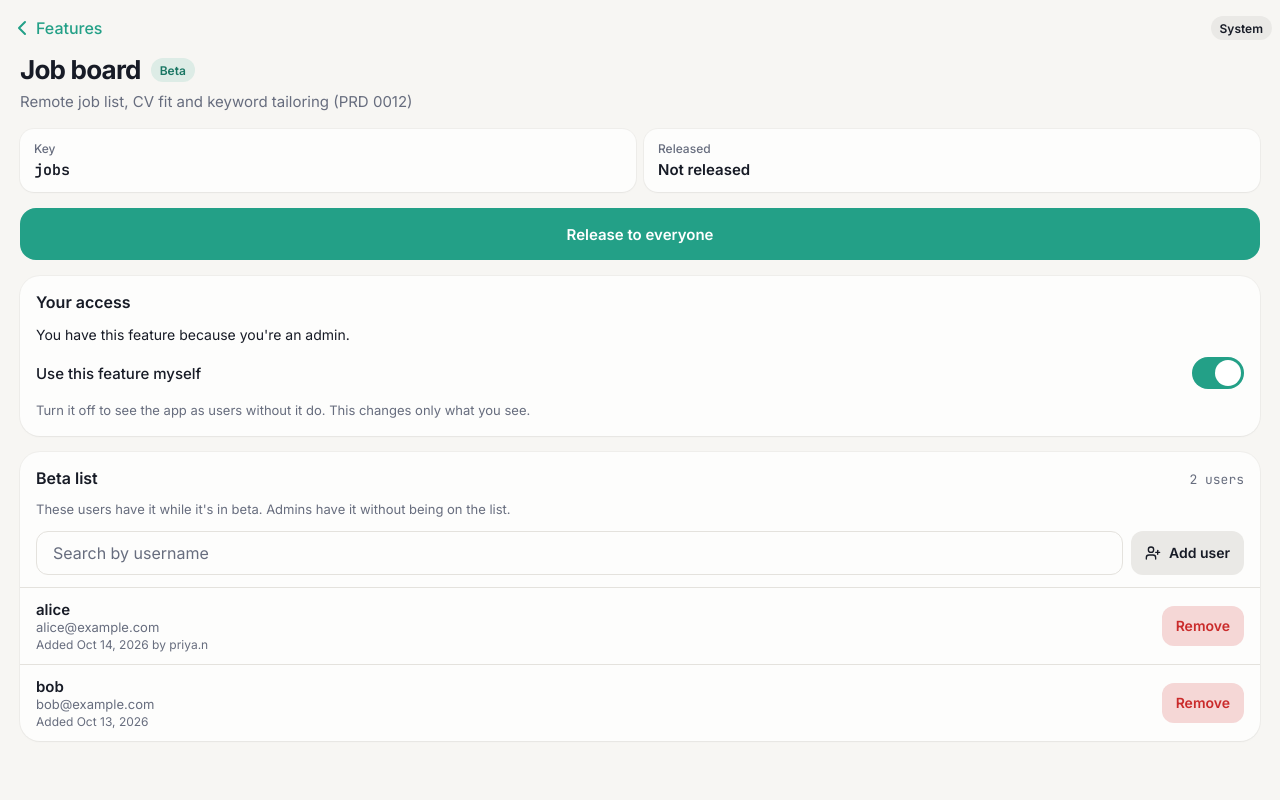
Test: a feature's page below md › removes a member after its sheet: a refusal stays inside, success hands focus to the search
Check: the text "alice" is shown, box left=36, top=600, right=70, bottom=619
Click the button with aria-label "Remove alice" at (1203, 626), box left=1162, top=604, right=1244, bottom=648
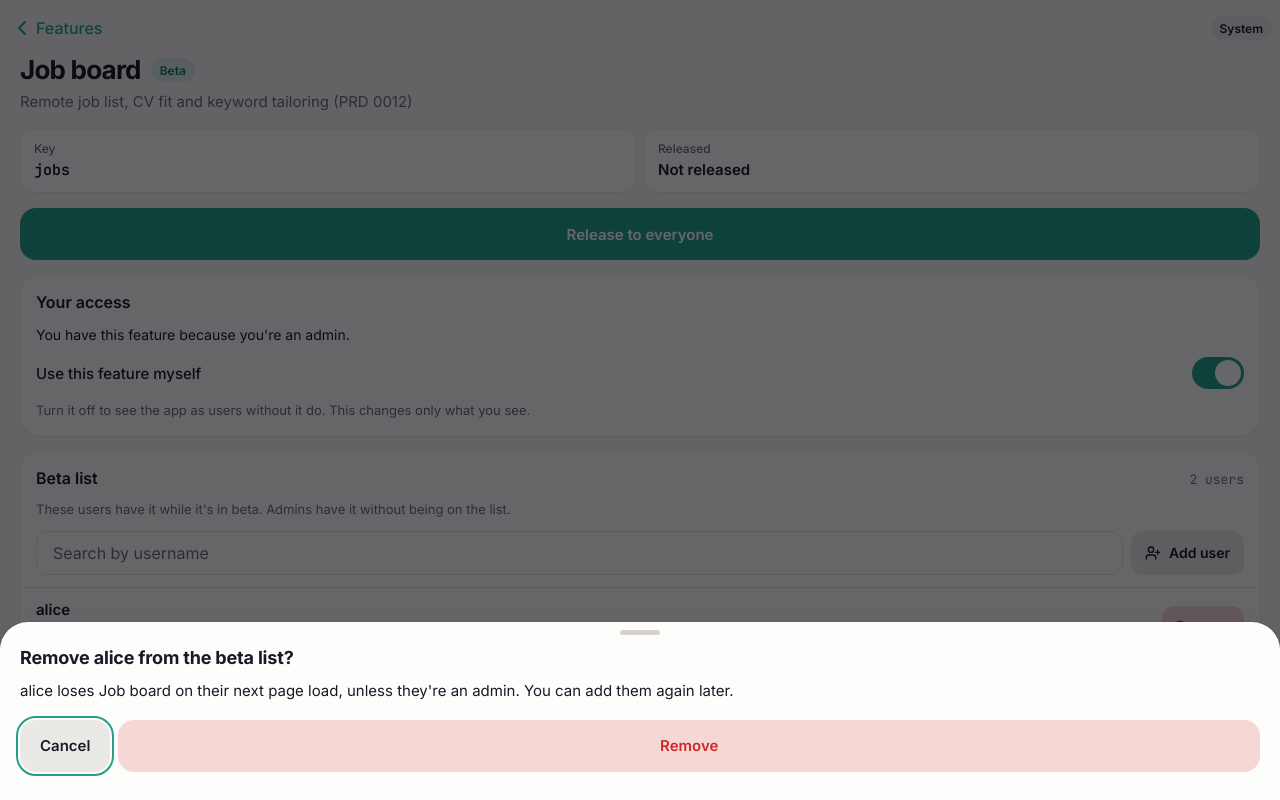
Click the button "Cancel" at (65, 746), box left=20, top=720, right=110, bottom=772
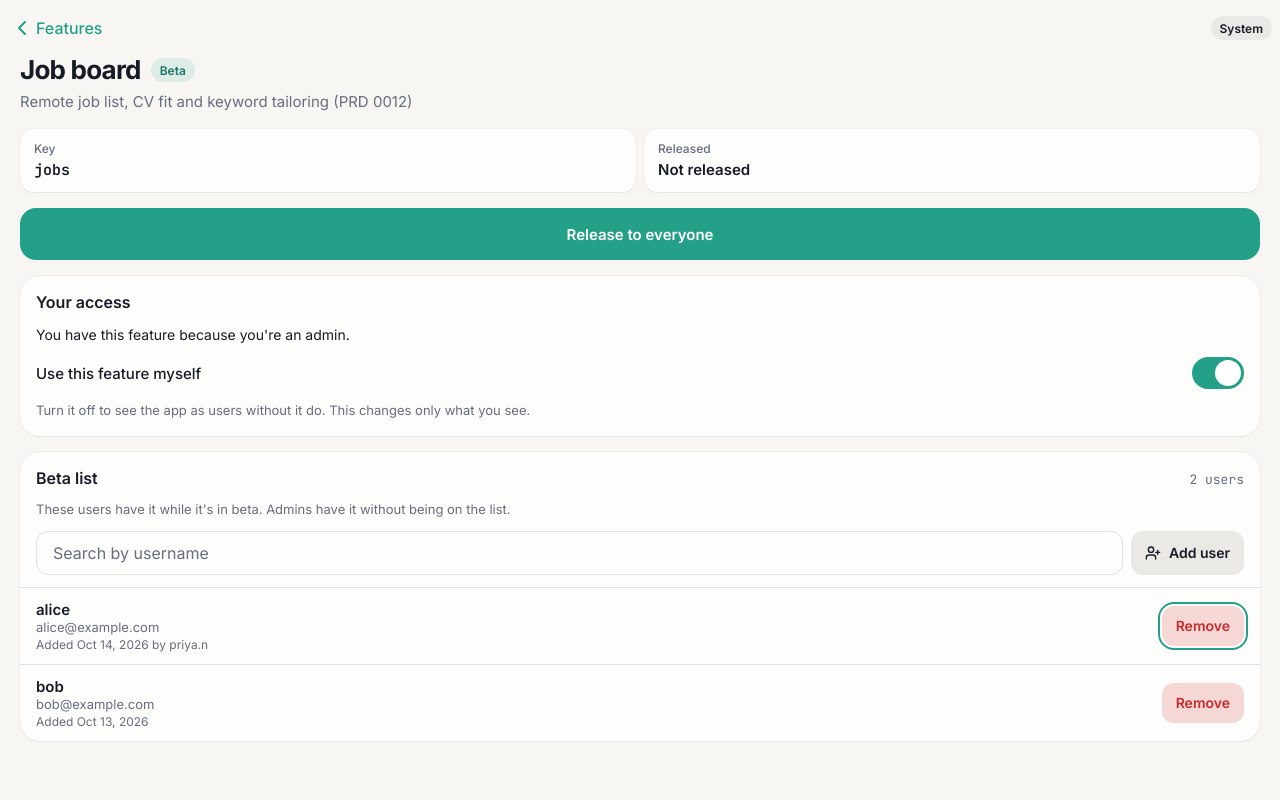
Check: the dialog is gone
Click the button with aria-label "Remove alice" at (1203, 626), box left=1162, top=604, right=1244, bottom=648
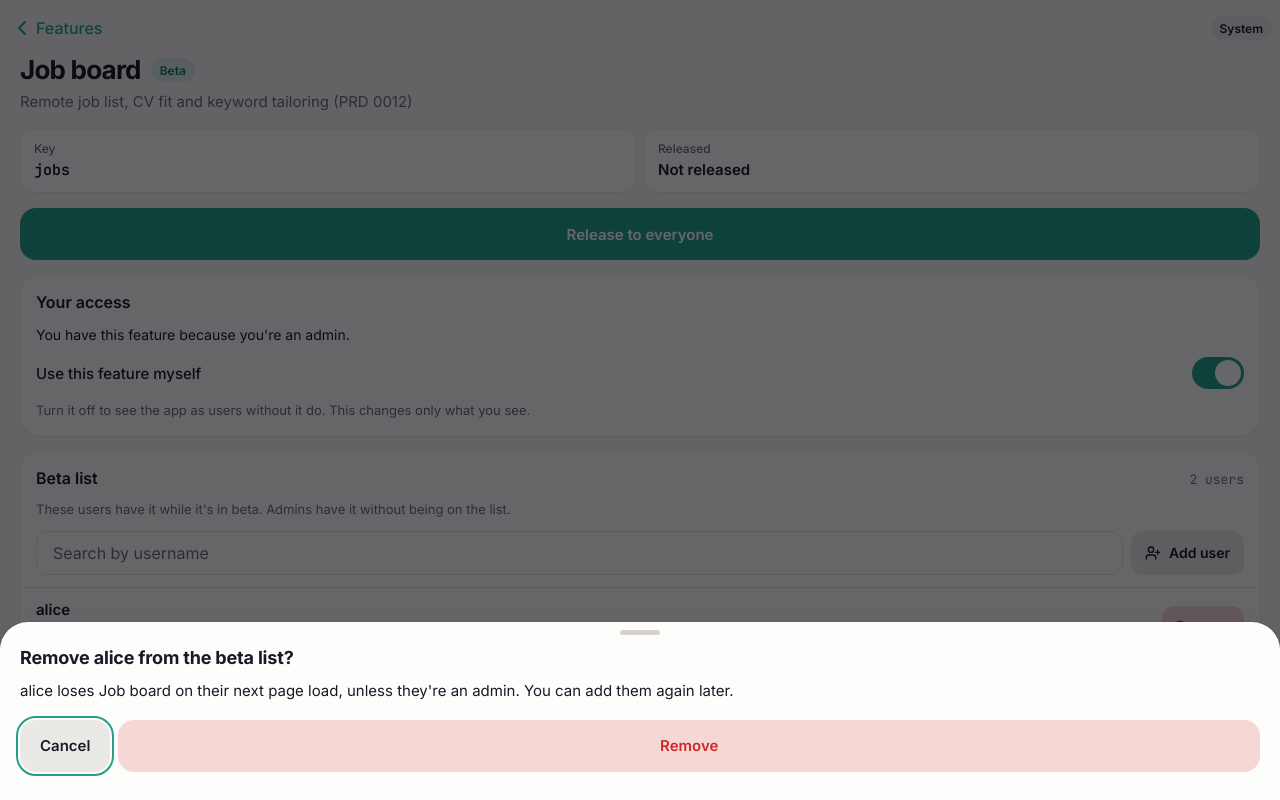
Click the button "Remove" at (689, 746), box left=118, top=720, right=1260, bottom=772
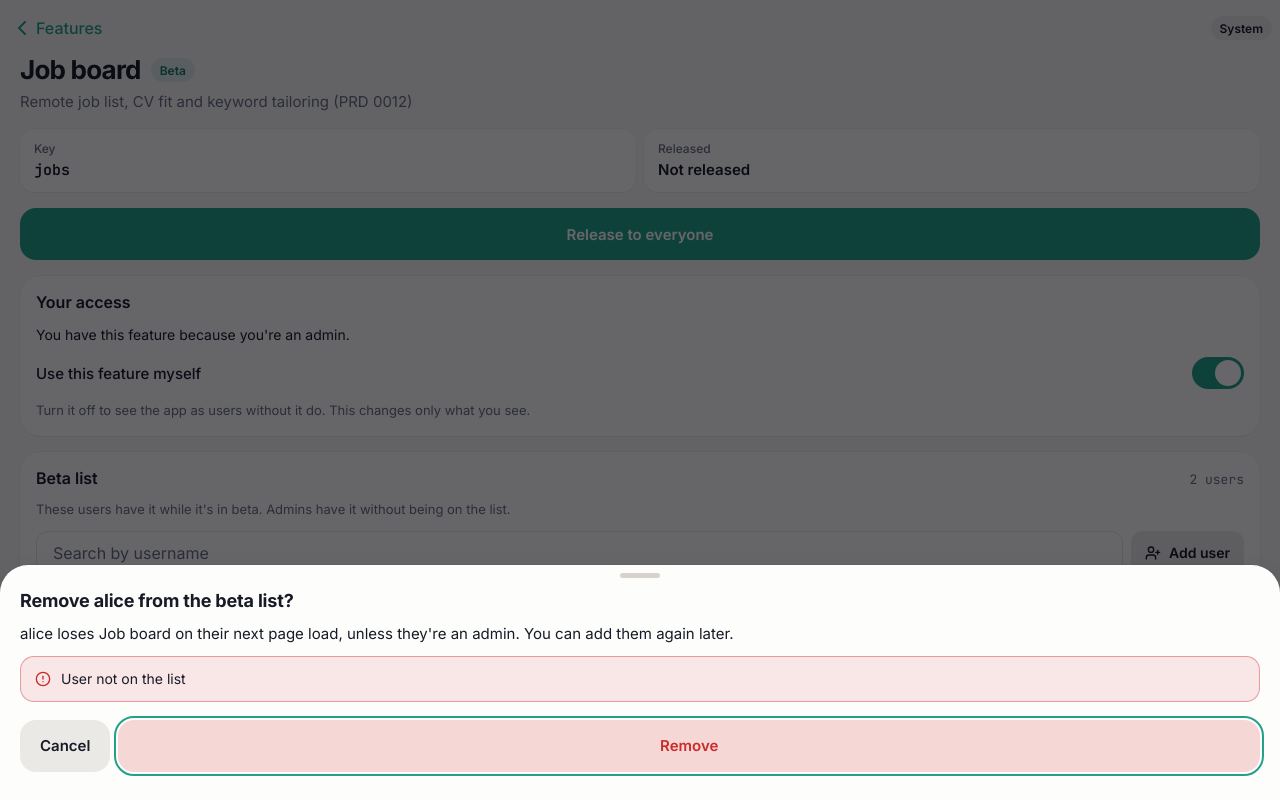
Check: the message reads "User not on the list", box left=61, top=670, right=186, bottom=687
Click the button "Remove" at (689, 746), box left=118, top=720, right=1260, bottom=772
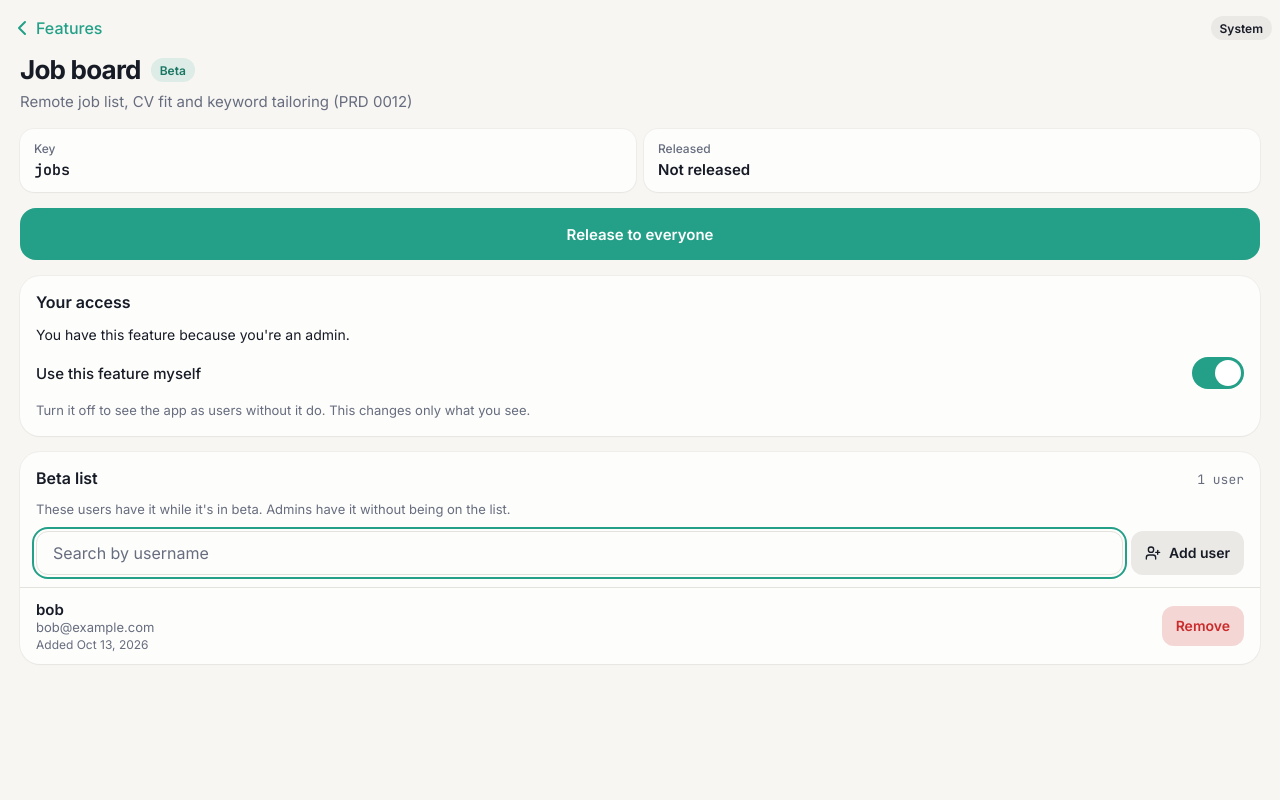
Check: the dialog is gone
